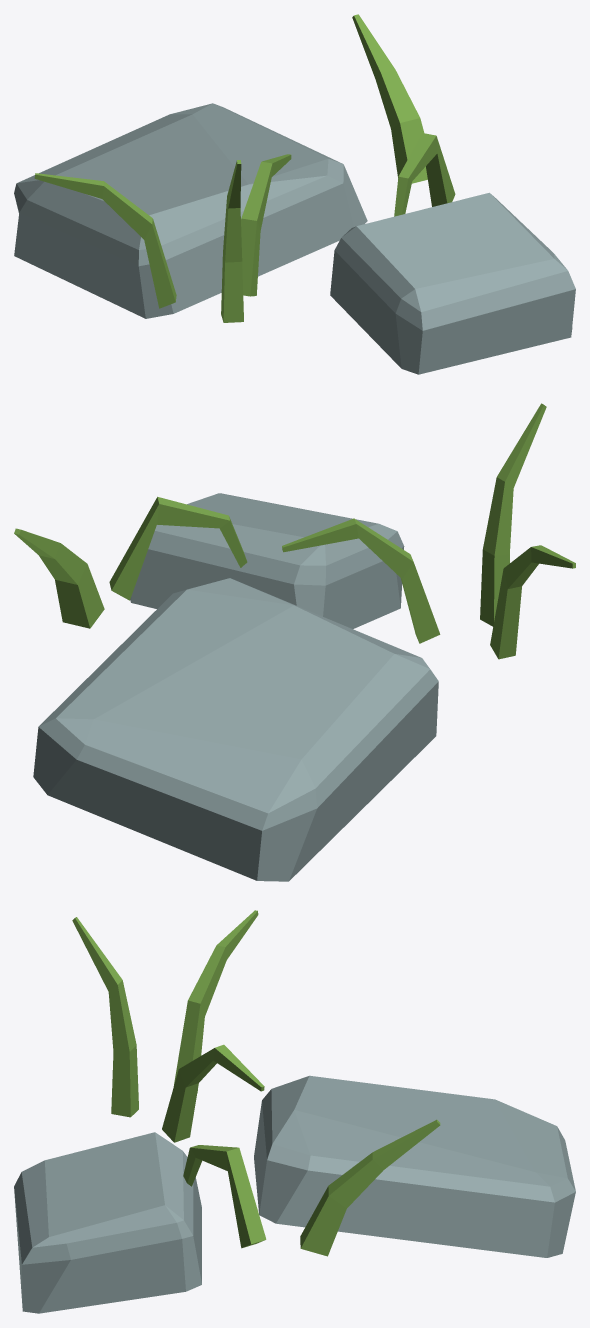
File: herbe5.fbx
3 renders of one model, top to bottom at view 1: azimuth 30°, elevation 25°; view 2: azimuth 150°, elevation 25°; view 3: azimuth 270°, elevation 25°, orthographic. The views are drawn at different scales.
Parts seen in each view (by area): view 1: pCube90, pCube89, pCube93, pCube94, pCube95, pCube92, pCube91; view 2: pCube90, pCube89, pCube95, pCube92, pCube91, pCube93, pCube94; view 3: pCube90, pCube89, pCube93, pCube95, pCube92, pCube91, pCube94.
Boxes of the visible parts, x1=… form: pCube90: x1=14, y1=103, x2=367, y2=318; pCube89: x1=330, y1=192, x2=575, y2=374; pCube93: x1=352, y1=14, x2=427, y2=183; pCube94: x1=34, y1=173, x2=176, y2=308; pCube95: x1=221, y1=160, x2=243, y2=322; pCube92: x1=241, y1=154, x2=291, y2=296; pCube91: x1=394, y1=133, x2=455, y2=216; pCube90: x1=33, y1=578, x2=438, y2=881; pCube89: x1=130, y1=493, x2=404, y2=628; pCube95: x1=480, y1=403, x2=546, y2=626; pCube92: x1=282, y1=518, x2=440, y2=643; pCube91: x1=109, y1=496, x2=247, y2=600; pCube93: x1=14, y1=528, x2=104, y2=628; pCube94: x1=490, y1=545, x2=575, y2=659; pCube90: x1=254, y1=1075, x2=575, y2=1257; pCube89: x1=14, y1=1132, x2=201, y2=1313; pCube93: x1=300, y1=1119, x2=440, y2=1256; pCube95: x1=72, y1=917, x2=138, y2=1117; pCube92: x1=162, y1=1044, x2=264, y2=1142; pCube91: x1=183, y1=1145, x2=266, y2=1248; pCube94: x1=173, y1=910, x2=258, y2=1092.
Size of the model in its own units: 62.94 by 36.38 by 68.83.
